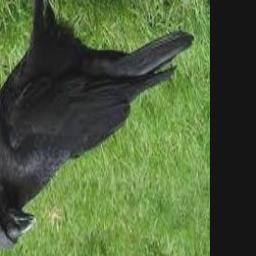Crow: (0, 0, 194, 248)
